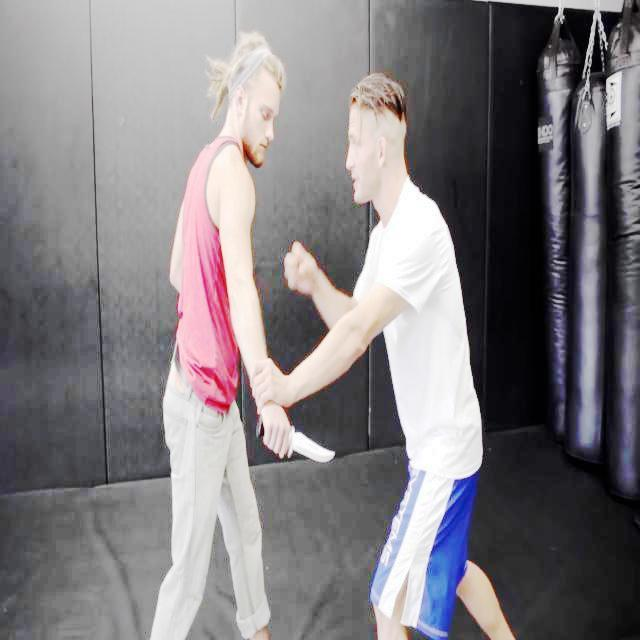Knife: (254, 417, 343, 469)
